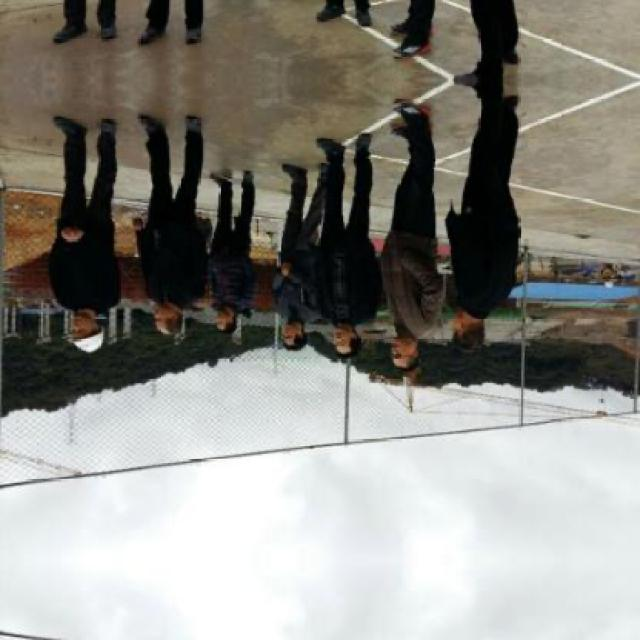con casco: (56, 302, 116, 362)
sin casco: (135, 277, 188, 349), (199, 291, 250, 351), (452, 292, 482, 358), (381, 321, 417, 374), (262, 316, 303, 357), (314, 329, 354, 366), (331, 336, 335, 351)
